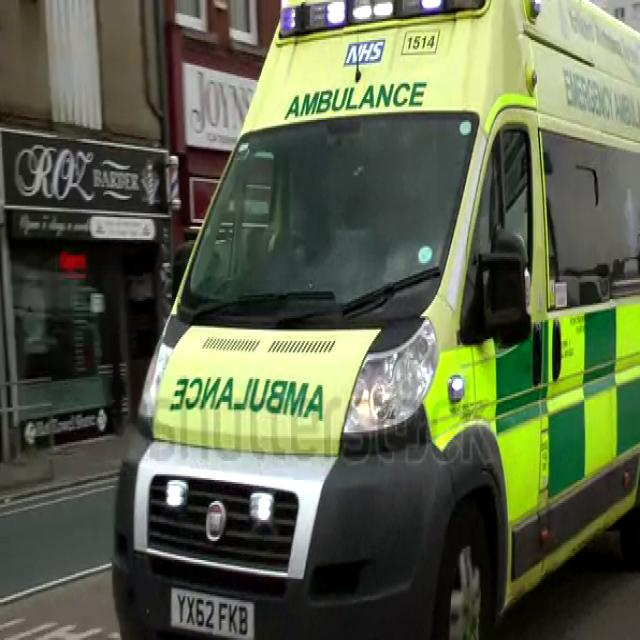ambulance: (116, 10, 636, 619)
